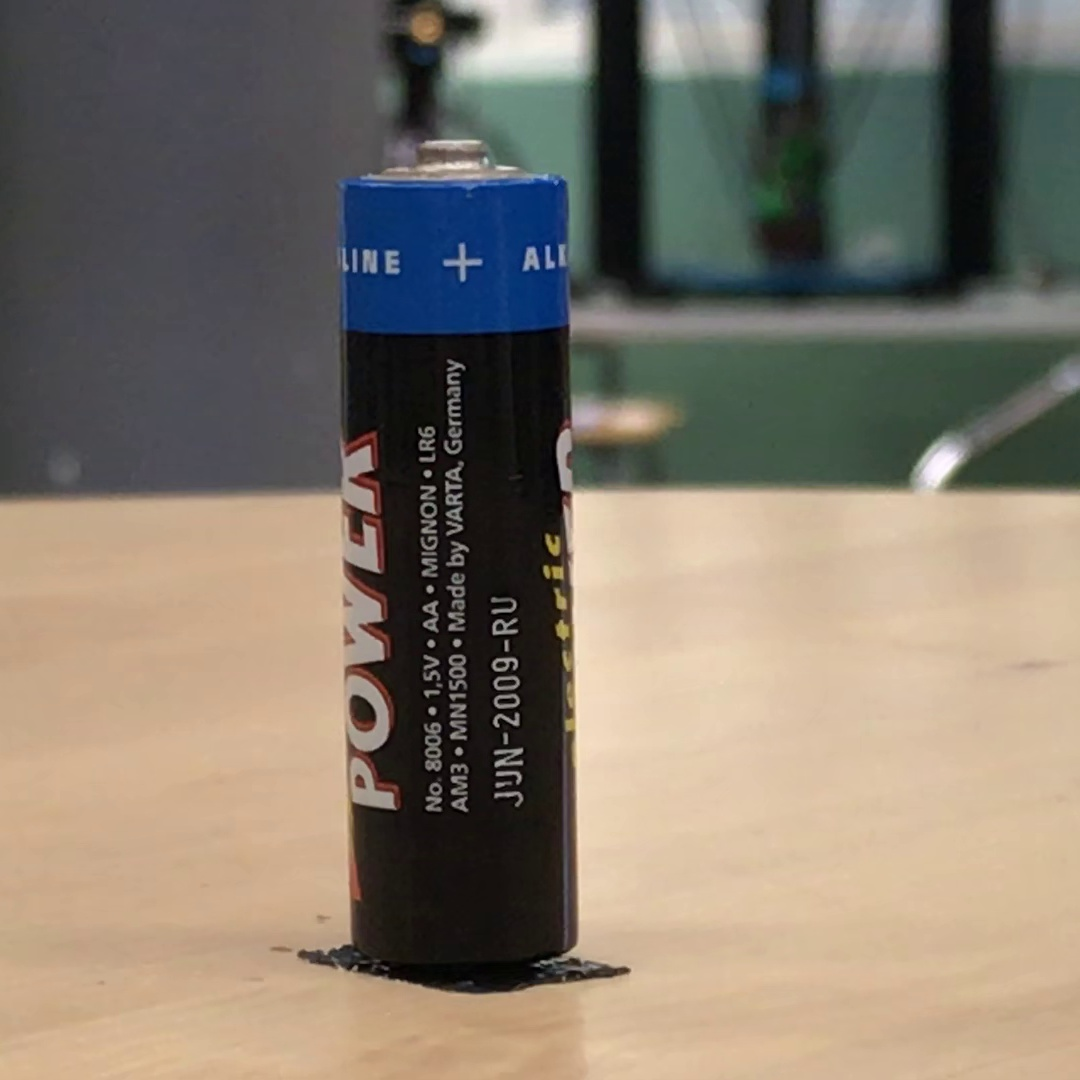keyword: (414, 645, 449, 707), (409, 417, 445, 471)
